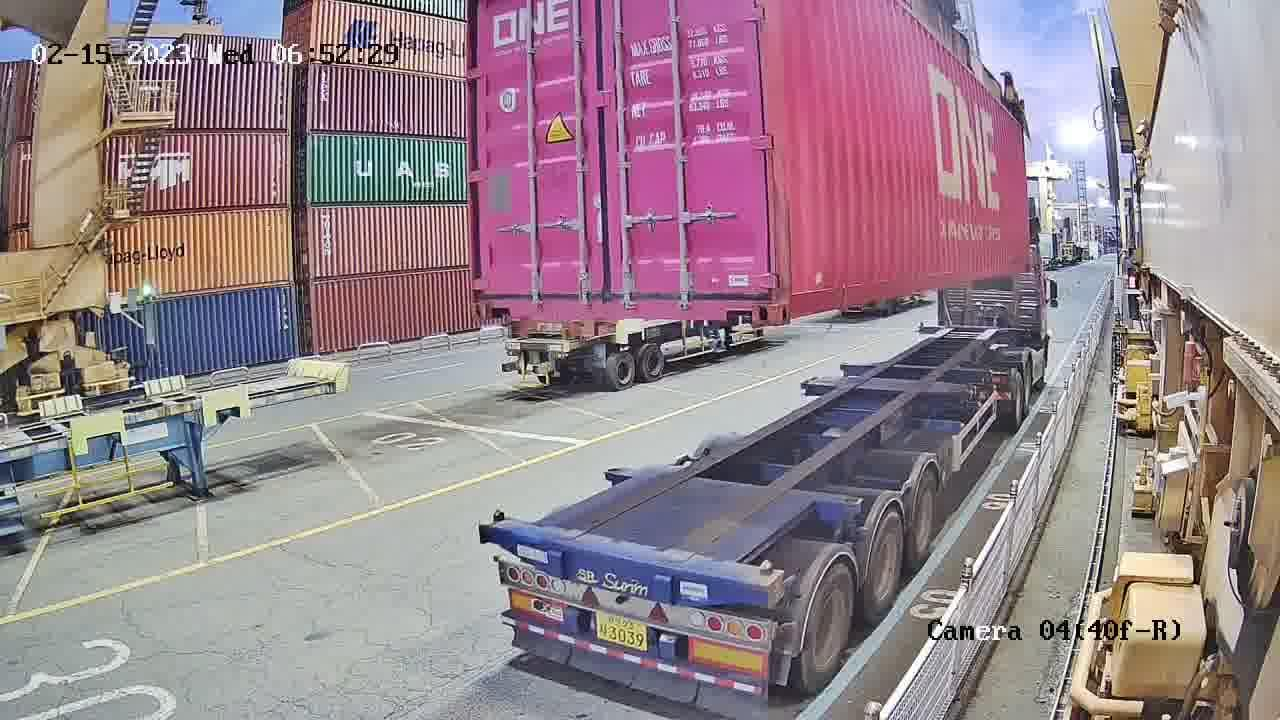Chassis: (483, 524, 770, 611)
Cone: (753, 557, 788, 606), (488, 506, 509, 538)
Hole_L: (471, 276, 520, 320), (777, 269, 814, 326)
Hole_R: (723, 275, 779, 327)
Tire: (805, 570, 853, 688), (864, 510, 904, 615), (910, 473, 940, 562)
